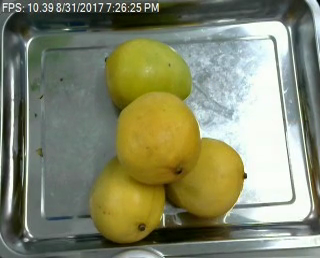Mango: (115, 93, 201, 185), (88, 153, 166, 244), (165, 138, 246, 218), (106, 35, 191, 108)
